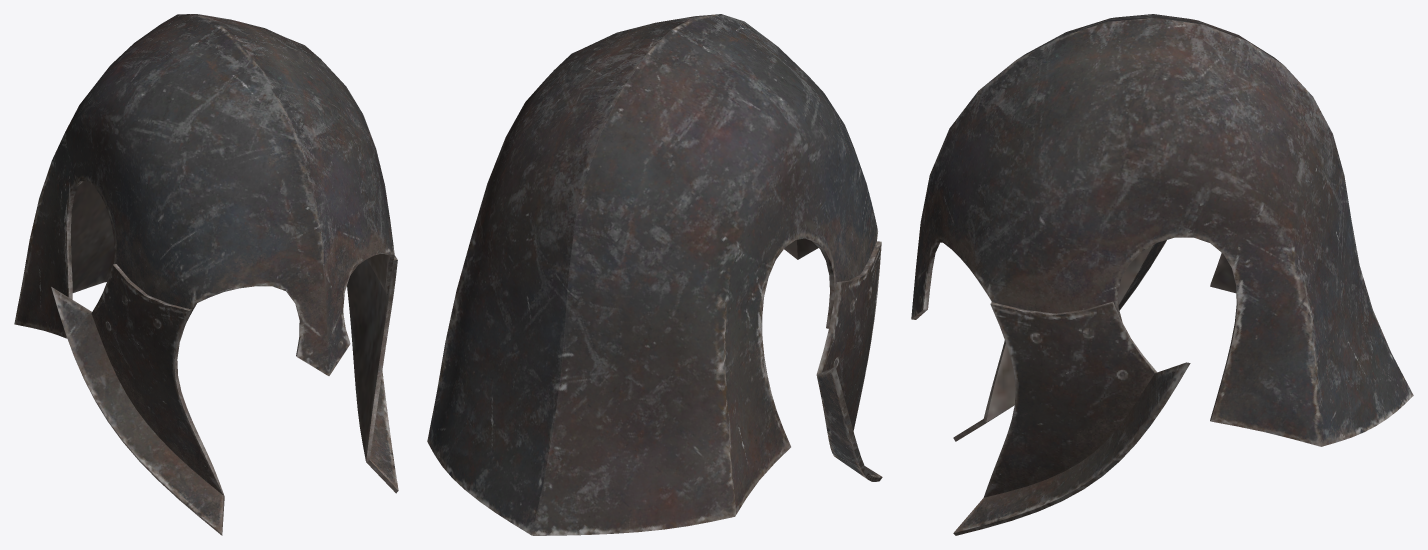
The model's file is sk_dg_uruk_helmet_med_h.fbx.
The picture shows the model from 3 angles, left to right: view 1: azimuth 30°, elevation 25°; view 2: azimuth 150°, elevation 25°; view 3: azimuth 270°, elevation 25°; orthographic projection. The views are drawn at different scales.
Visible parts, largest first — view 1: sk_dg_uruk_helmet_med_h; view 2: sk_dg_uruk_helmet_med_h; view 3: sk_dg_uruk_helmet_med_h.
Boxes of the visible parts, left/top/right/bottom form: sk_dg_uruk_helmet_med_h: left=14, top=14, right=398, bottom=535; sk_dg_uruk_helmet_med_h: left=427, top=14, right=882, bottom=535; sk_dg_uruk_helmet_med_h: left=911, top=14, right=1413, bottom=535.
Bounding box in the file's own units: 0.2401 × 0.3064 × 0.3168.
1 material, 1 textured.
